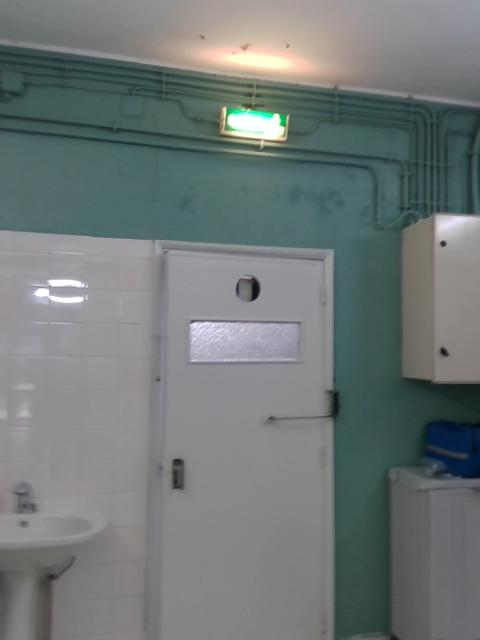door: (163, 248, 325, 639)
